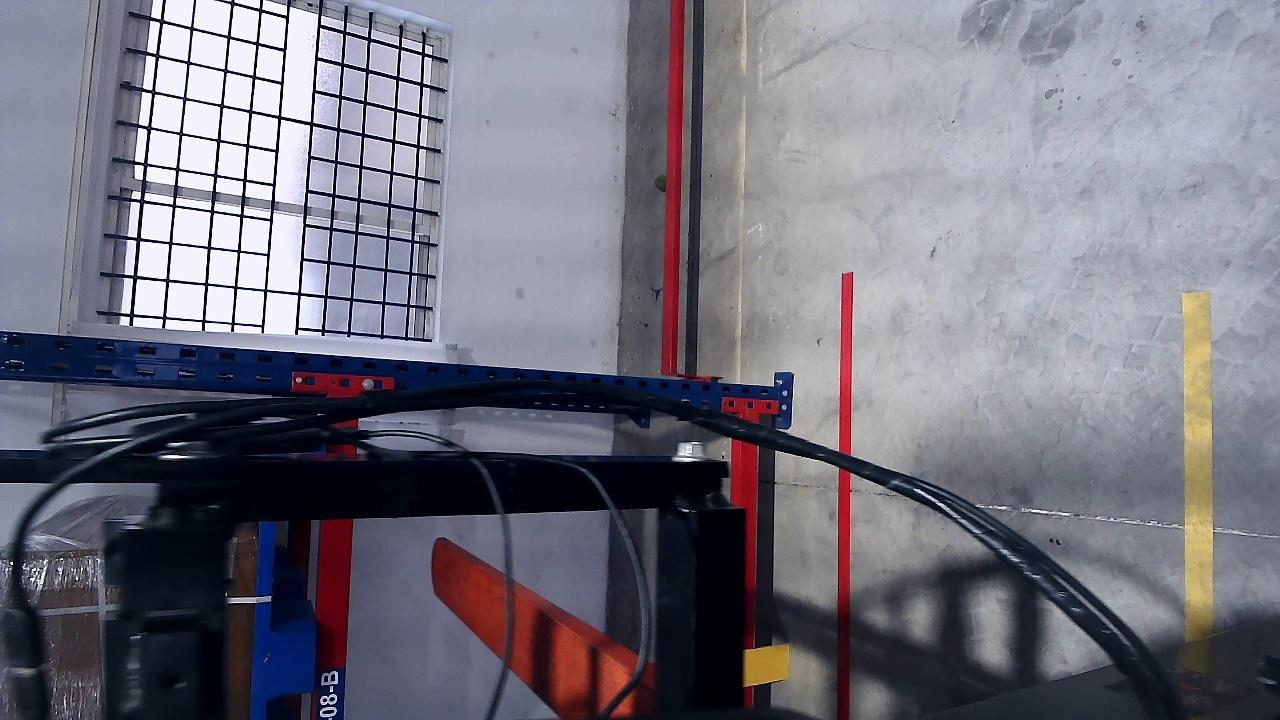h_rack: (310, 444, 360, 718)
orange_strip: (744, 645, 791, 686)
red_line: (838, 271, 855, 720)
